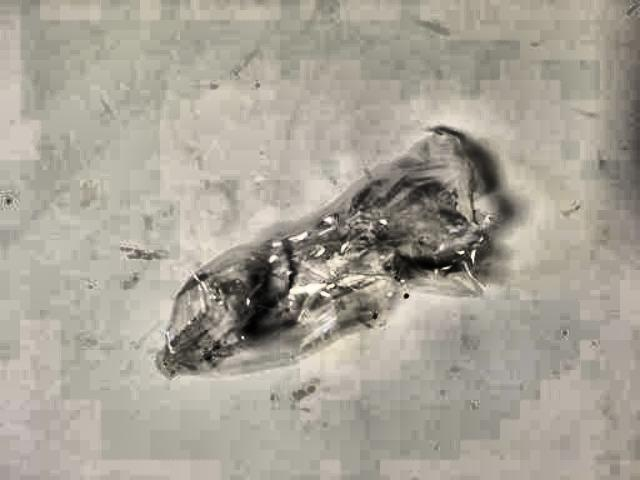Plastic: (145, 117, 515, 400)
